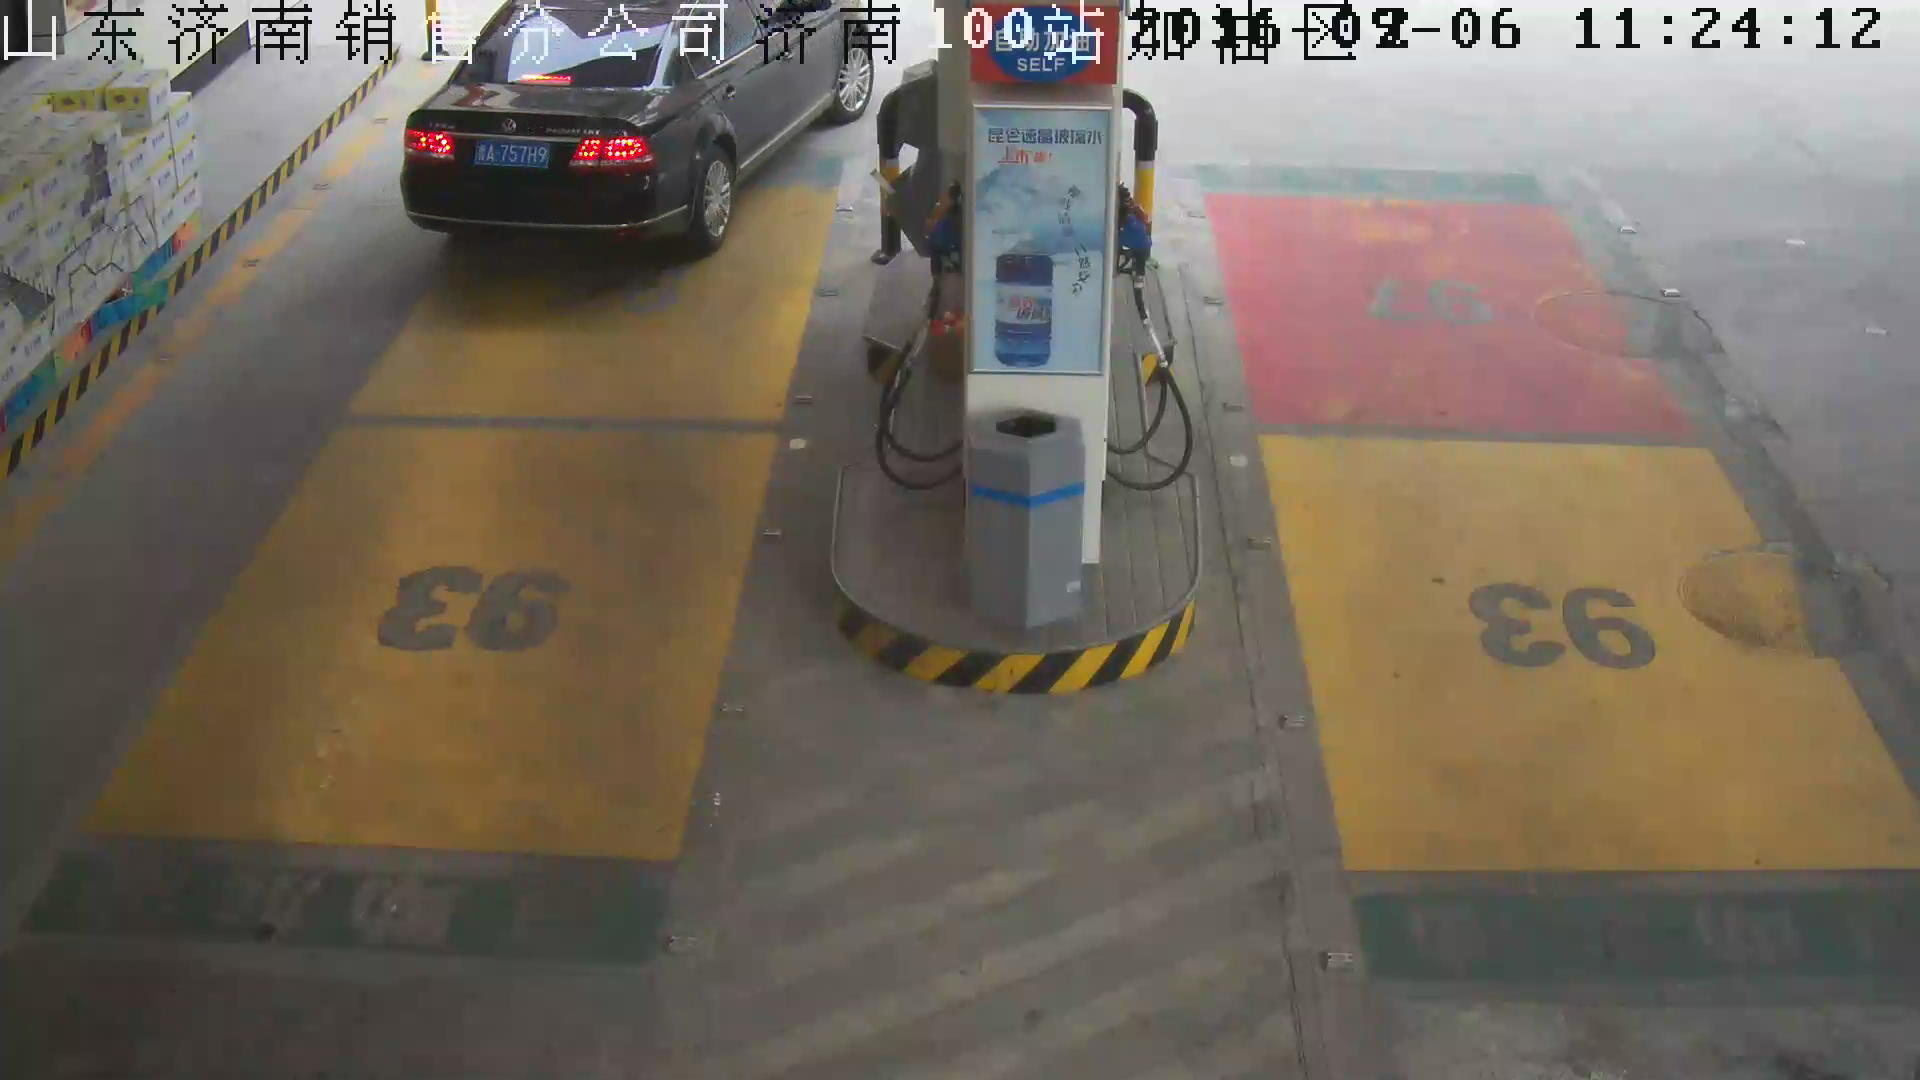blue: (471, 140, 555, 171)
